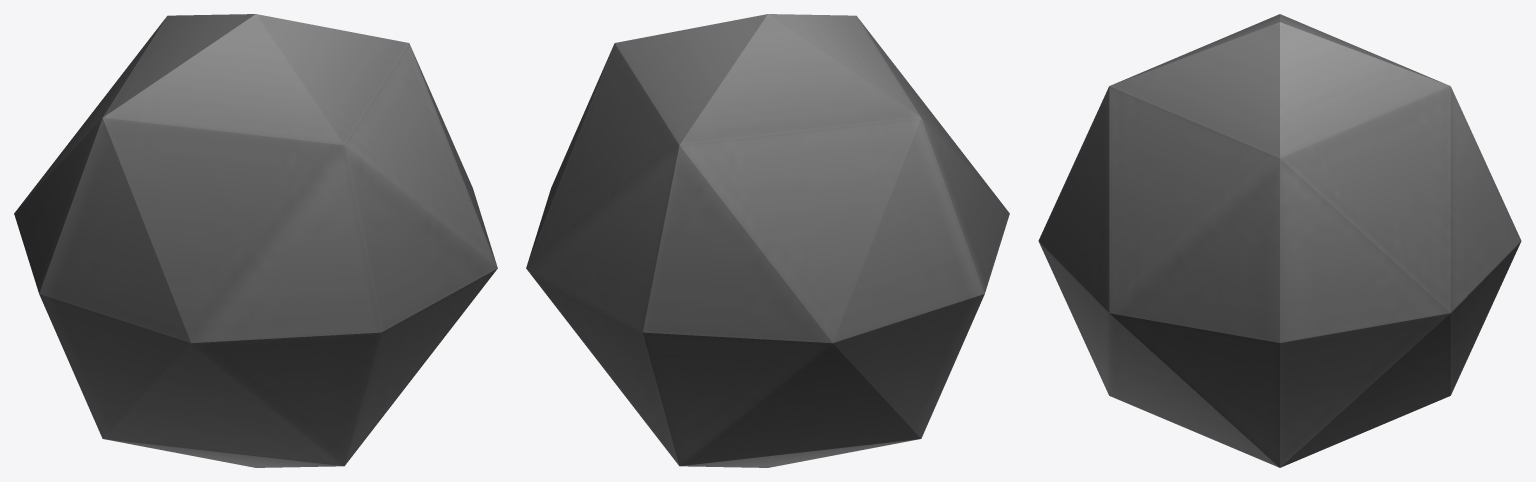
3 views of the same model, side by side, from view 1: azimuth 30°, elevation 25°; view 2: azimuth 150°, elevation 25°; view 3: azimuth 270°, elevation 25° (orthographic). The views are drawn at different scales.
Parts seen in each view (by area): view 1: smoke; view 2: smoke; view 3: smoke.
Part boxes in pixels (bbox=[...]): smoke: bbox=[14, 14, 497, 467]; smoke: bbox=[526, 14, 1009, 467]; smoke: bbox=[1038, 14, 1521, 467].
Bounding box in the file's own units: 0.2806 × 0.2806 × 0.2806.
1 material, 1 textured.
